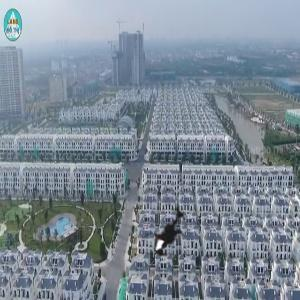drone: (125, 189, 208, 272)
